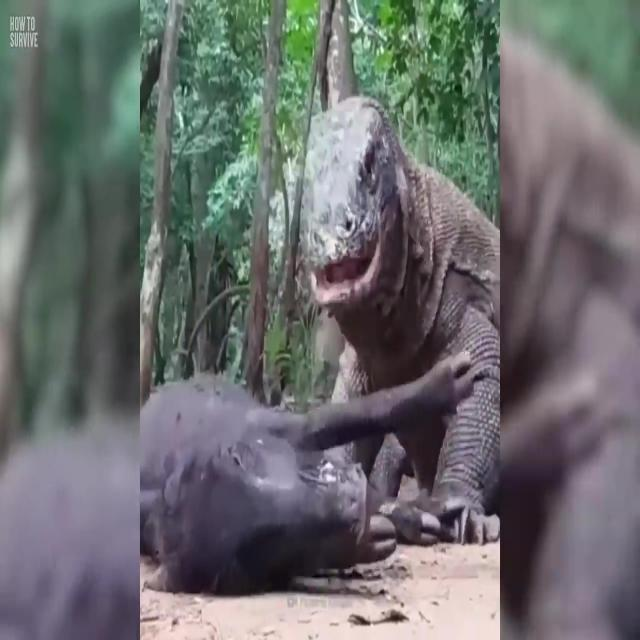pig: (141, 316, 441, 614)
